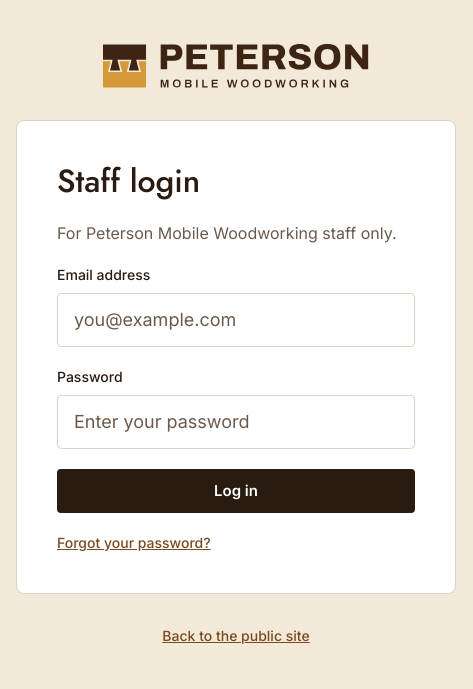
Test case: StaffLoginPage › shows an inline error on each empty field and does not try to sign in
Click the button "Log in": x=236, y=491 [57,469,415,513]
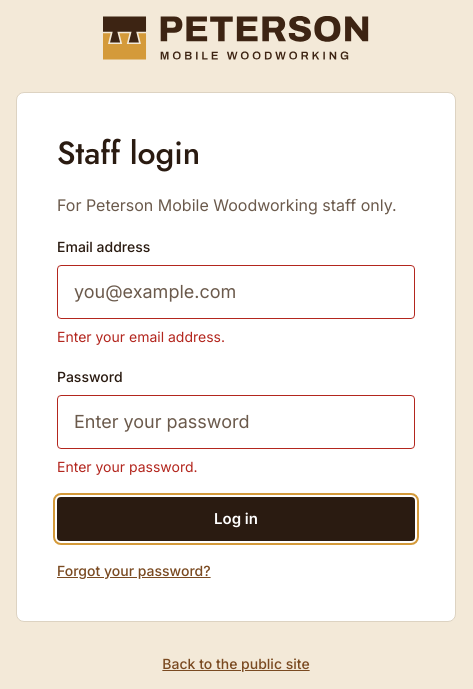
expect the text "Enter your email address." is shown: met, box [57,328,225,345]
expect the text "Enter your password." is shown: met, box [57,458,198,475]
